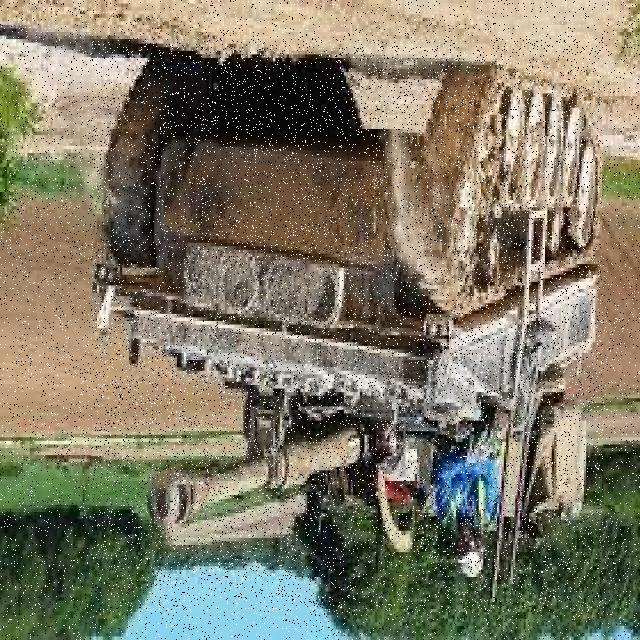MIL_MBT: (91, 40, 602, 612)
